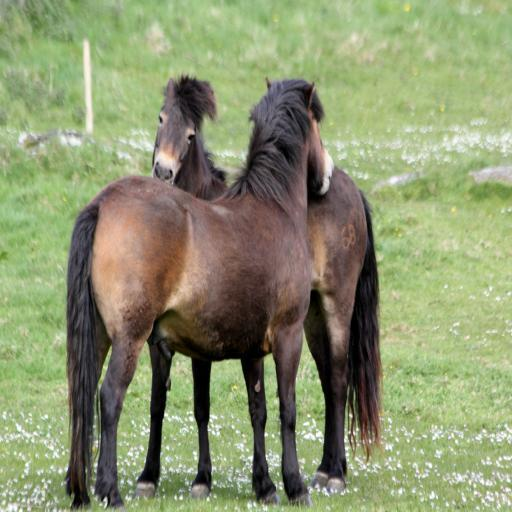horse: (66, 78, 334, 511), (136, 72, 382, 497)
